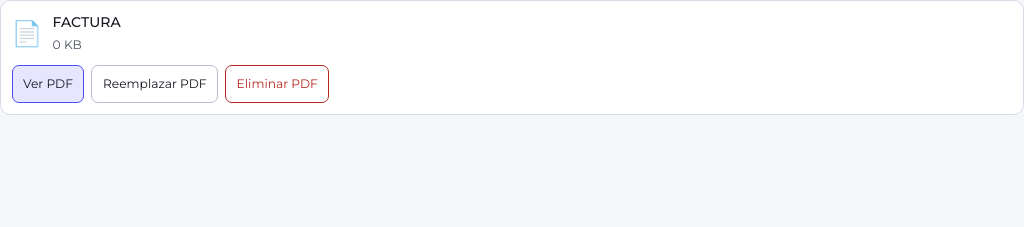
Test: AdjuntoPdf (HU-007-7) › al cancelar la confirmación no elimina
This screenshot has width=1024, height=227.
Click the button "Eliminar PDF" at [277, 84], box [225,65,329,103]
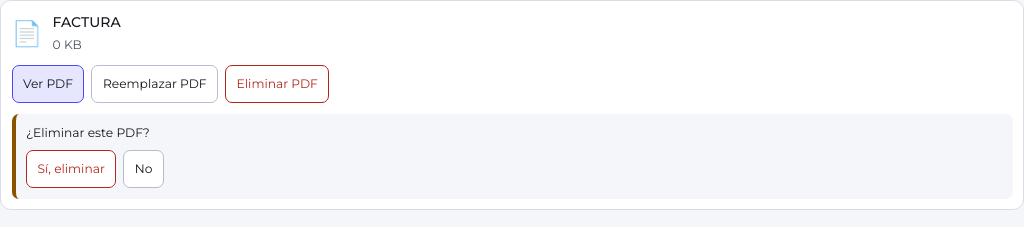
Click the button "No" at [144, 169], box [123,150,164,188]
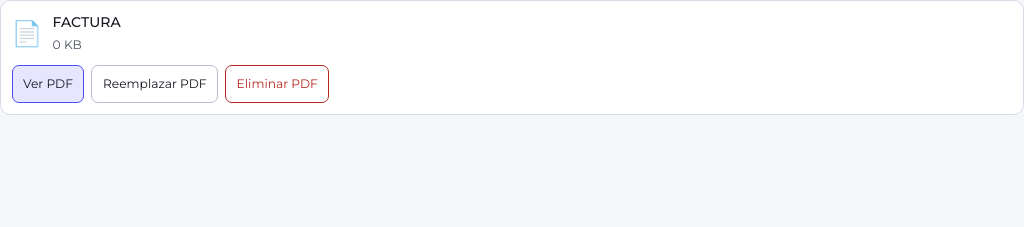
Now the text "¿Eliminar este PDF?" is gone
